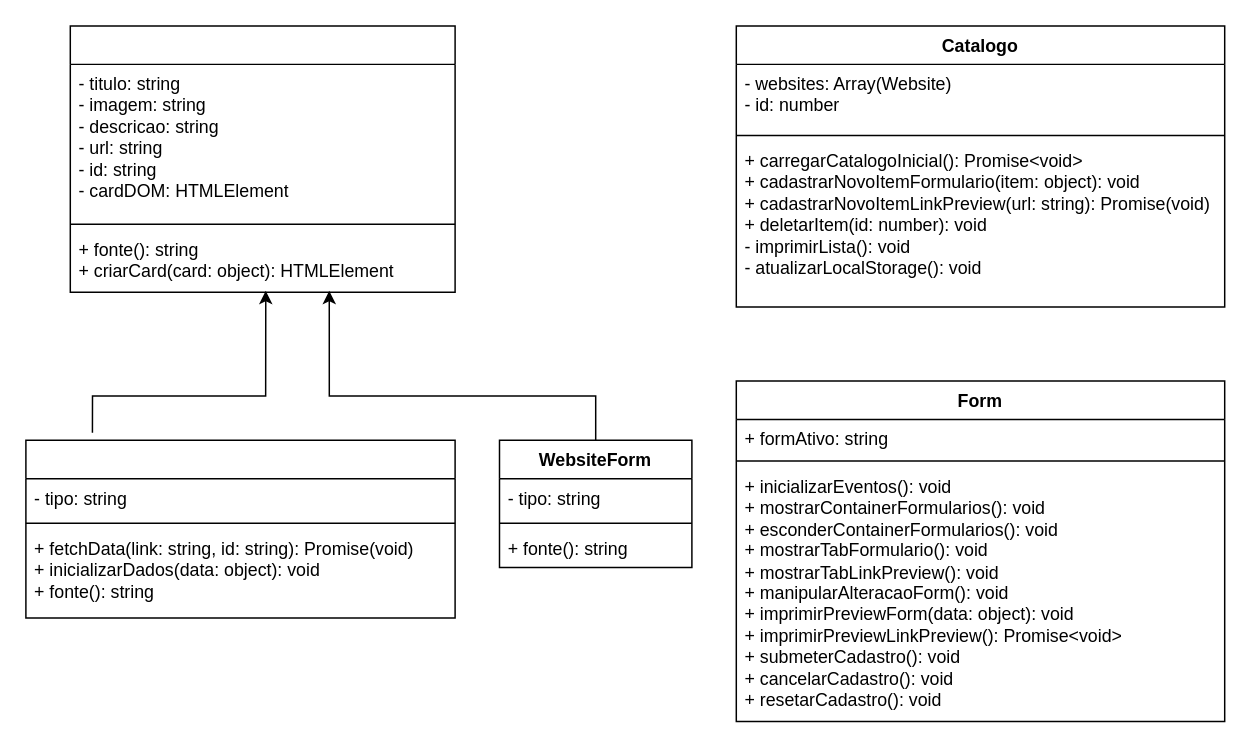
The diagram is 1251 pixels wide and 752 high, and some of its shapes have lost their labels. Each missing label, with the box of its shape:
Website: (69, 24, 455, 292)
WebsiteLinkPreview: (24, 439, 455, 618)
